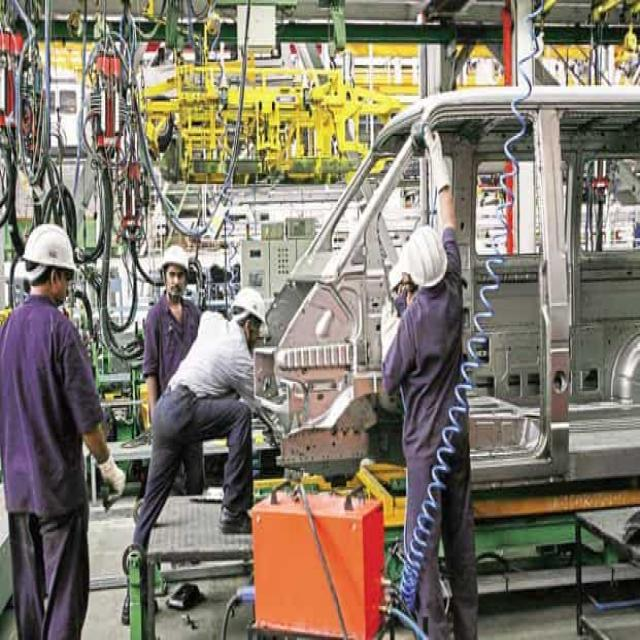Reflective-Jacket: (389, 290, 477, 440)
Safety-Helmet: (390, 218, 452, 295), (15, 214, 84, 282), (228, 280, 275, 337), (152, 236, 196, 282)
